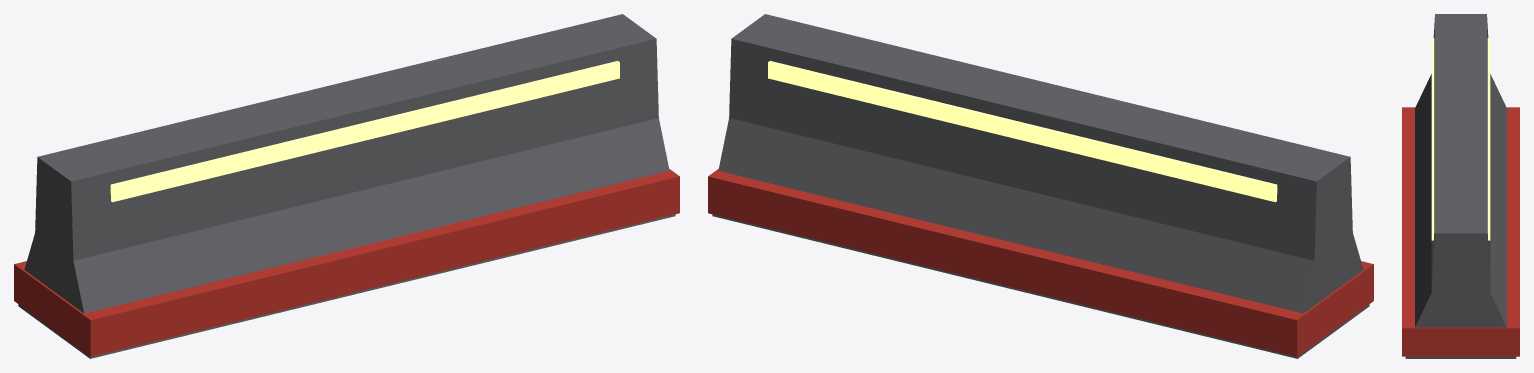
File: dt_barrier.fbx
3 renders of one model, left to right at view 1: azimuth 30°, elevation 25°; view 2: azimuth 150°, elevation 25°; view 3: azimuth 270°, elevation 25°, orthographic. The views are drawn at different scales.
Parts seen in each view (by area): view 1: concretelt_1, crimson_1, neonorange_1; view 2: concretelt_1, crimson_1, neonorange_1; view 3: concretelt_1, crimson_1, neonorange_1.
Boxes of the visible parts, x1,y1,x2,y2 form: concretelt_1: (18, 14, 675, 358); crimson_1: (14, 169, 679, 356); neonorange_1: (110, 61, 619, 202); concretelt_1: (712, 14, 1369, 358); crimson_1: (708, 169, 1373, 356); neonorange_1: (768, 61, 1277, 202); concretelt_1: (1405, 14, 1516, 358); crimson_1: (1402, 107, 1519, 356); neonorange_1: (1431, 38, 1490, 240).
Size of the model in its own units: 0.302 by 0.08 by 0.068.
